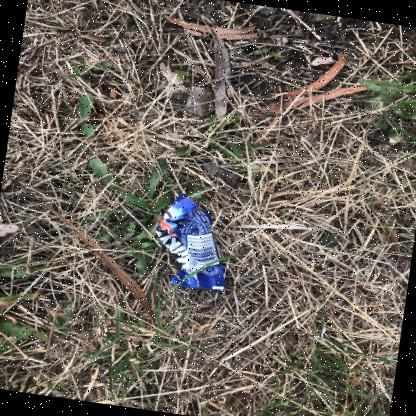Other plastic: (155, 192, 225, 290)
Plastic film: (186, 86, 214, 115), (158, 85, 185, 99)
